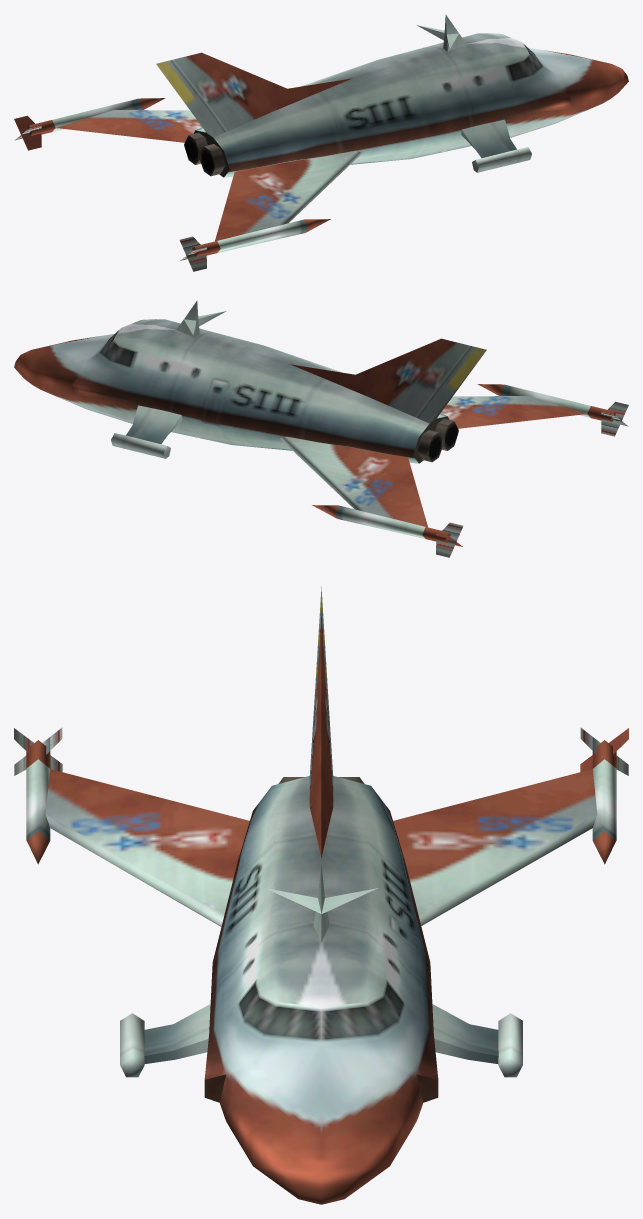
The model's file is ultra2.ico.obj.
3 renders of one model, top to bottom at view 1: azimuth 30°, elevation 25°; view 2: azimuth 150°, elevation 25°; view 3: azimuth 270°, elevation 25°, orthographic. The views are drawn at different scales.
Size of the model in its own units: 4.89 by 1.31 by 2.9.
1 material, 1 textured.
